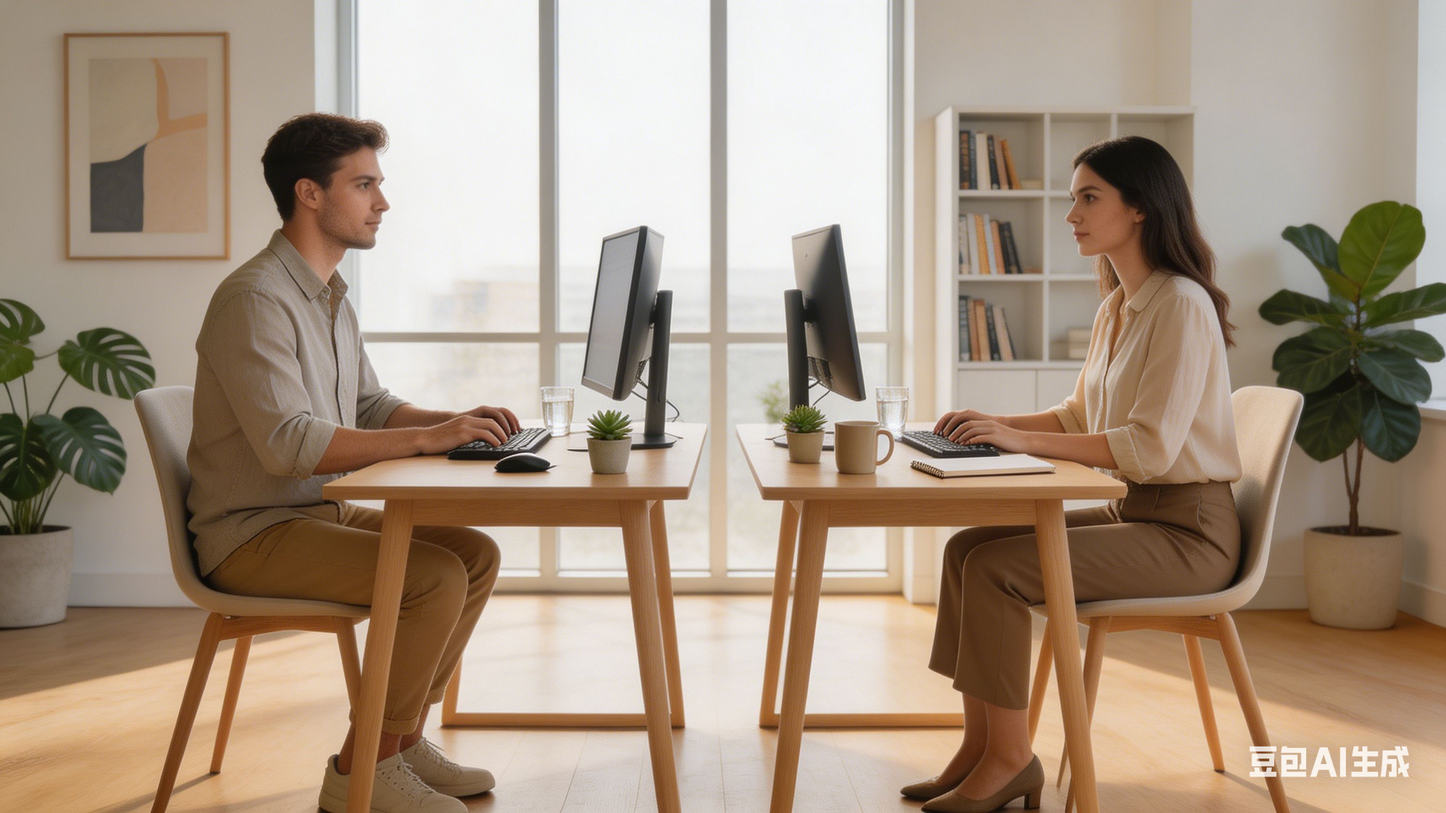sitting_good: (185, 115, 523, 801), (919, 137, 1238, 806)
